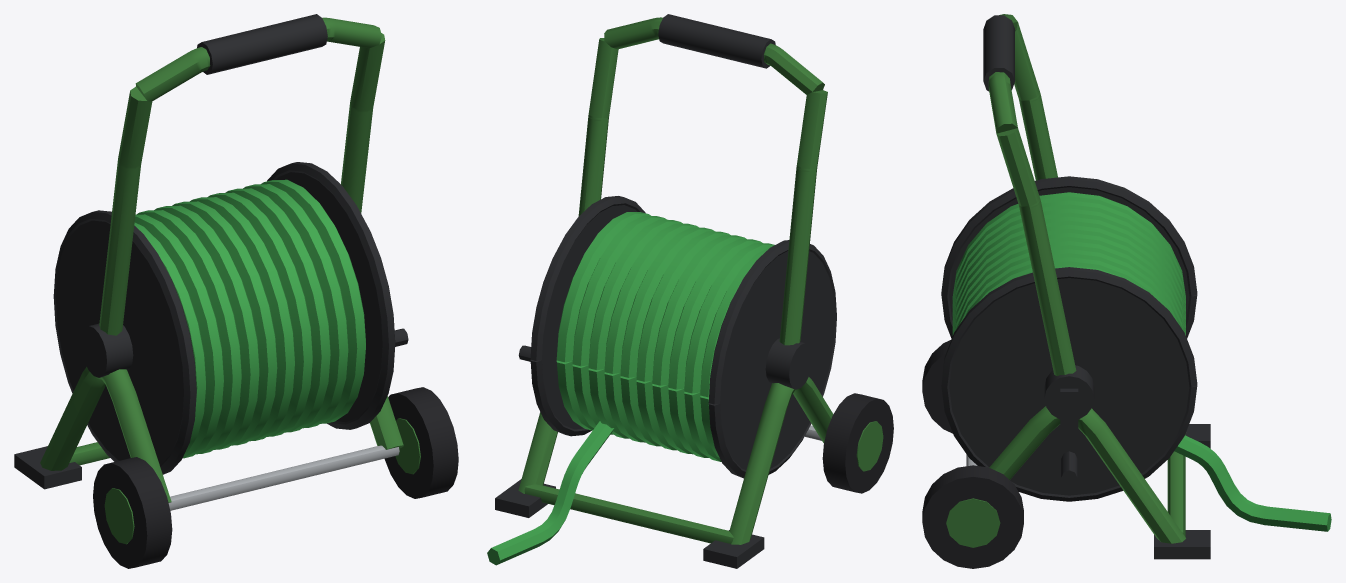
File: hose_reel.glb
3 renders of one model, left to right at view 1: azimuth 30°, elevation 25°; view 2: azimuth 150°, elevation 25°; view 3: azimuth 270°, elevation 25°, orthographic. The views are drawn at different scales.
Parts seen in each view (by area): view 1: hose_reel; view 2: hose_reel; view 3: hose_reel.
Part boxes in pixels (x1=…): hose_reel: x1=14, y1=14, x2=458, y2=568; hose_reel: x1=487, y1=14, x2=893, y2=568; hose_reel: x1=922, y1=14, x2=1331, y2=568.
Size of the model in its own units: 3.22 by 4.46 by 3.62.
